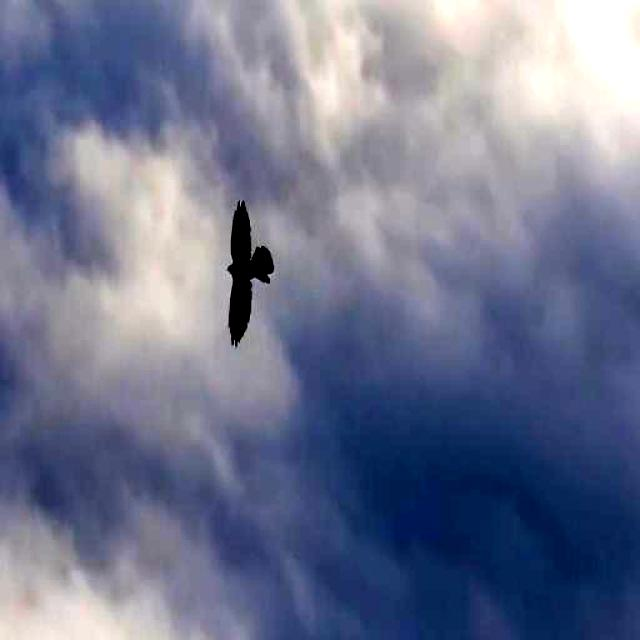airplane: (215, 175, 281, 360)
